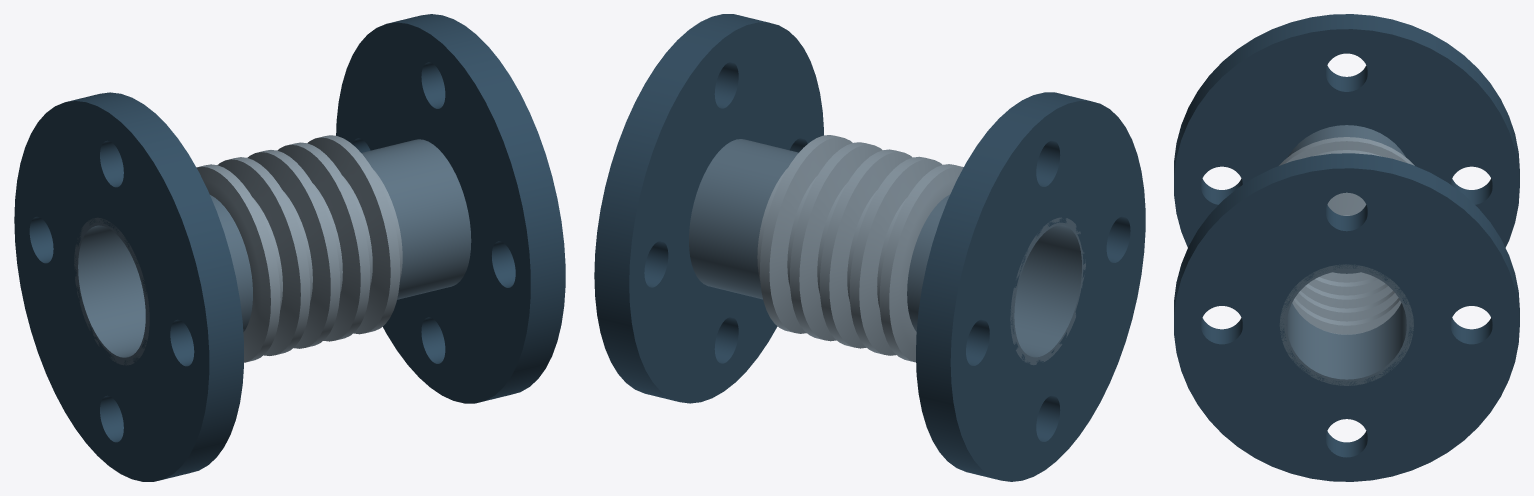
The model's file is silf-dn50-L155-D57-f.glb.
The picture shows the model from 3 angles, left to right: view 1: azimuth 30°, elevation 25°; view 2: azimuth 150°, elevation 25°; view 3: azimuth 270°, elevation 25°; orthographic projection. The views are drawn at different scales.
Visible parts, largest first — view 1: homut_flanec_1, homut_flanec_2, prokladka_silfon_1, patrubok_2, patrubok_1; view 2: homut_flanec_1, homut_flanec_2, prokladka_silfon_1, patrubok_2, patrubok_1; view 3: homut_flanec_2, homut_flanec_1, patrubok_2, prokladka_silfon_1, patrubok_1.
Boxes of the visible parts, <box> form: homut_flanec_1: <box>14,92,243,481</box>; homut_flanec_2: <box>336,14,565,403</box>; prokladka_silfon_1: <box>196,135,402,362</box>; patrubok_2: <box>361,139,471,299</box>; patrubok_1: <box>74,195,252,365</box>; homut_flanec_1: <box>916,92,1145,481</box>; homut_flanec_2: <box>594,14,823,403</box>; prokladka_silfon_1: <box>757,135,963,362</box>; patrubok_2: <box>689,139,798,299</box>; patrubok_1: <box>907,194,1085,365</box>; homut_flanec_2: <box>1174,153,1519,481</box>; homut_flanec_1: <box>1174,14,1519,247</box>; patrubok_2: <box>1279,264,1413,385</box>; prokladka_silfon_1: <box>1279,137,1414,334</box>; patrubok_1: <box>1288,125,1405,273</box>.
Bounding box in the file's own units: 155 × 147 × 147.
